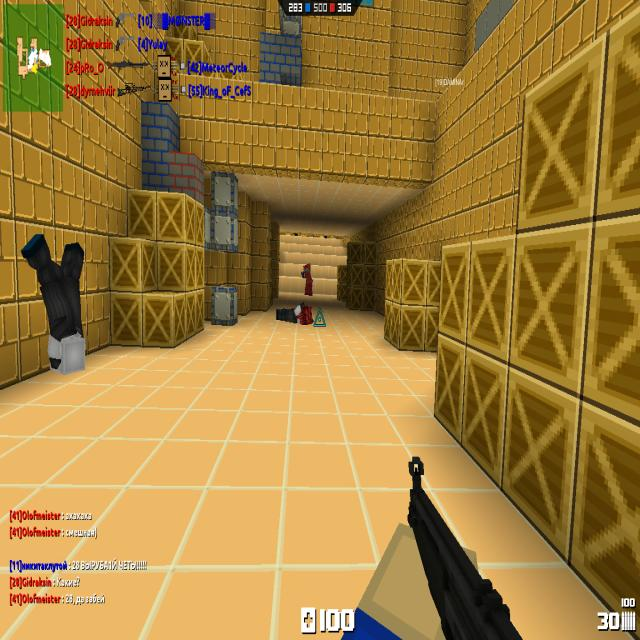enemy: (302, 264, 313, 296)
